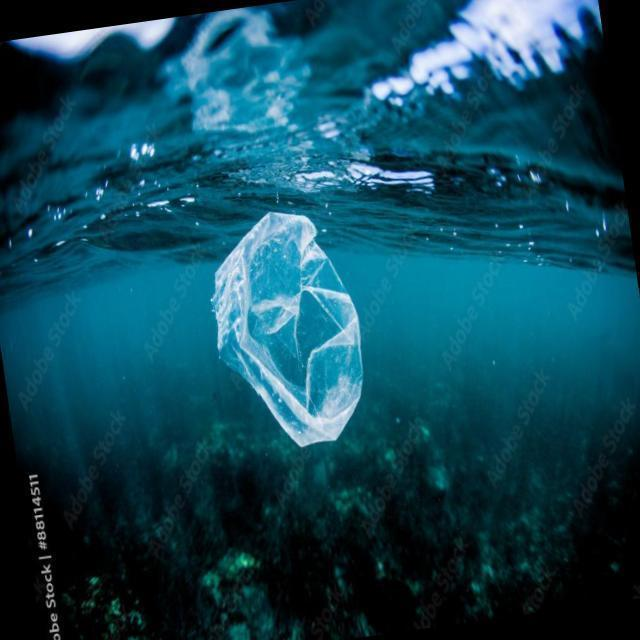Plastic_Bag: (194, 194, 381, 468)
